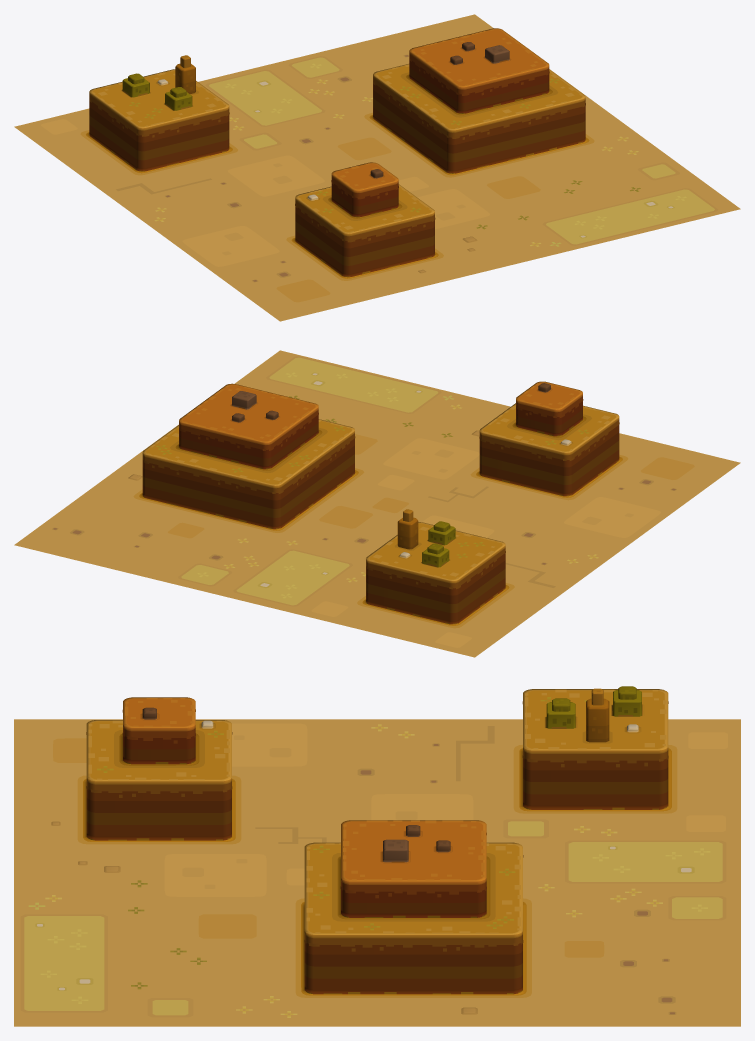
The model's file is C_mountain1_07.fbx.
3 views of the same model, one above another, from view 1: azimuth 30°, elevation 25°; view 2: azimuth 150°, elevation 25°; view 3: azimuth 270°, elevation 25° (orthographic). The views are drawn at different scales.
Parts seen in each view (by area): view 1: C_mountain1_07; view 2: C_mountain1_07; view 3: C_mountain1_07.
Boxes of the visible parts, left/top/right/bottom form: C_mountain1_07: left=14, top=14, right=740, bottom=321; C_mountain1_07: left=14, top=350, right=740, bottom=657; C_mountain1_07: left=14, top=686, right=740, bottom=1026.
Bounding box in the file's own units: 50 × 8.59 × 50.
